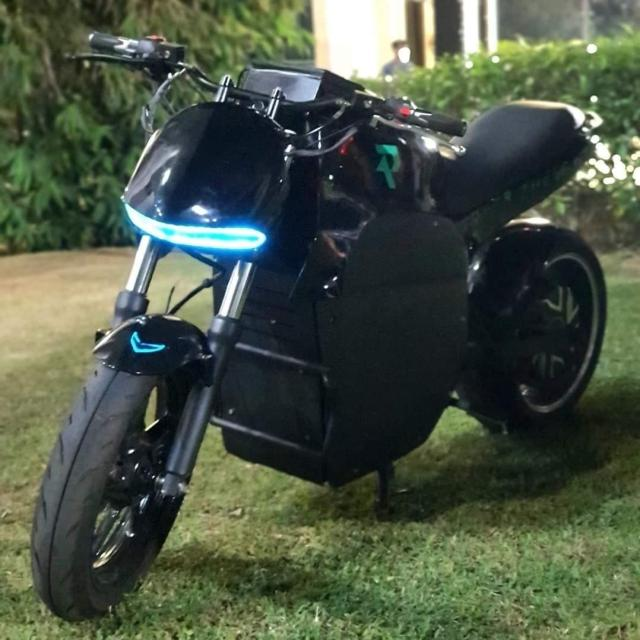motorcycle: (34, 32, 610, 620)
